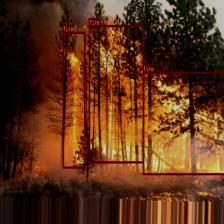fire: (143, 71, 224, 175), (89, 24, 144, 162), (62, 31, 85, 168)
